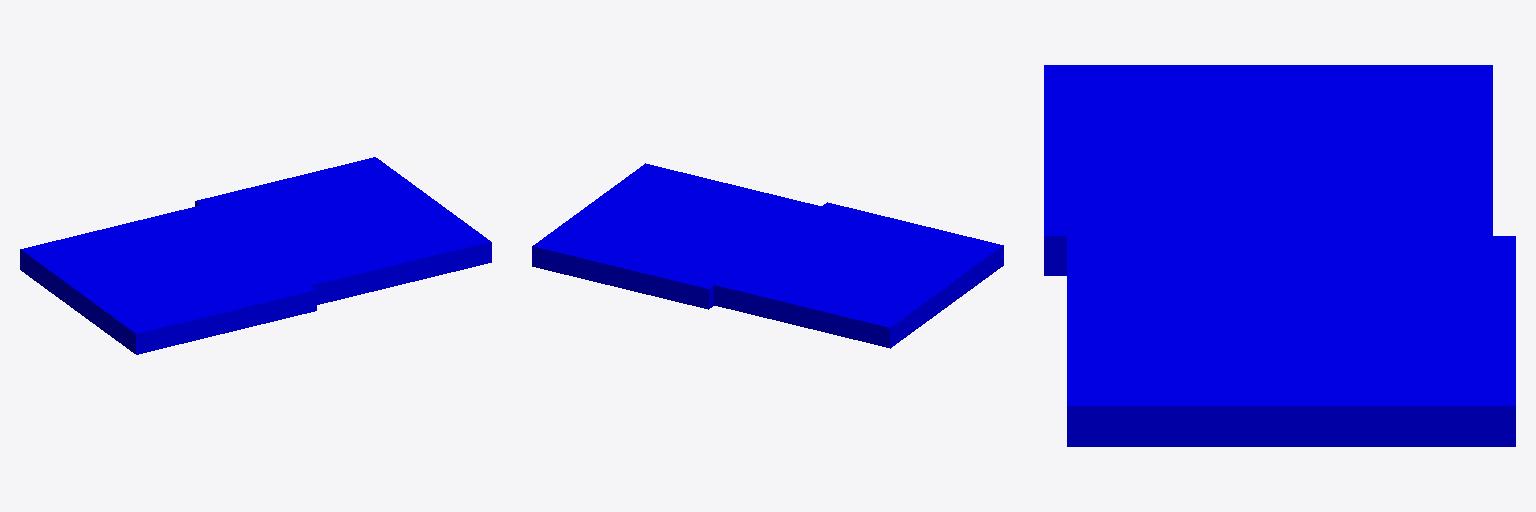
The robot description file, URDF, robot "bolt.urdf":
<?xml version="0.0" ?>
<robot name="bolt.urdf">
  <link name="base">
    <visual>
      <origin rpy="0 0 0" xyz="0 0 0.0"/>
      <geometry>
        <box size=".18 .2 0.02"/>
      </geometry>
      <material name="blue">
      </material>
    </visual>
    <collision>
      <origin rpy="0 0 0" xyz="0 0 0.0"/>
      <geometry>
        <box size=".18 .2 0.02"/>
      </geometry>
    </collision>
  </link>
  <joint name="joint1" type="revolute">
    <origin rpy="0 0 0" xyz=".09 0.0 0.0"/>
    <parent link="base"/>
    <child link="top"/>
    <axis xyz="0 1 0"/>
    <limit effort="10" lower="-3.1415" upper="3.1415" velocity="2.1750"/>
  </joint>
  <link name="top">
    <visual>
      <origin rpy="0 0 0" xyz=".09 .01 0.00"/>
      <geometry>
        <box size=".18 .2 0.02"/>
      </geometry>
      <material name="blue">
      </material>
    </visual>
    <collision>
      <origin rpy="0 0 0" xyz="0.09 0 0.0"/>
      <geometry>
        <box size=".18 .2 0.02"/>
      </geometry>
    </collision>
  </link>

  <material name="panda_white">
    <color rgba="1. 1. 1. 1."/>
  </material>
  <material name="red">
    <color rgba="1.0 0. 0. 1.0"/>
  </material>
  <material name="blue">
    <color rgba="0. 0. 1. 1.0"/>
  </material>
  <material name="green">
    <color rgba="0. 1. 0. 1.0"/>
  </material>

</robot>

--- Render facts (derived) ---
3 views of the same robot in one strip: view 1: azimuth 30°, elevation 25°; view 2: azimuth 150°, elevation 25°; view 3: azimuth 270°, elevation 25° (orthographic).
Robot: bolt.urdf — 2 links, 1 joints (1 revolute); root link base; default pose: every joint at zero.
Links seen in each view (by area): view 1: base, top; view 2: base, top; view 3: top, base.
Link boxes in pixels (x1,y1,x2,y2): base: (20,205,316,354); top: (195,157,491,304); base: (714,202,1003,348); top: (532,163,821,309); top: (1067,236,1515,446); base: (1044,65,1492,275).
Size in the robot's own frame: 0.36 by 0.21 by 0.02 metres.
Geometry: primitives only (box / cylinder / sphere), no mesh files.